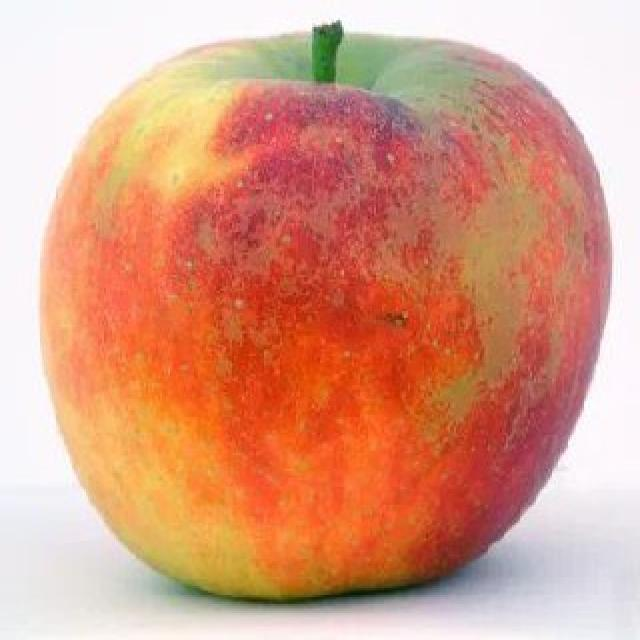Healty Apple: (38, 30, 612, 605)
